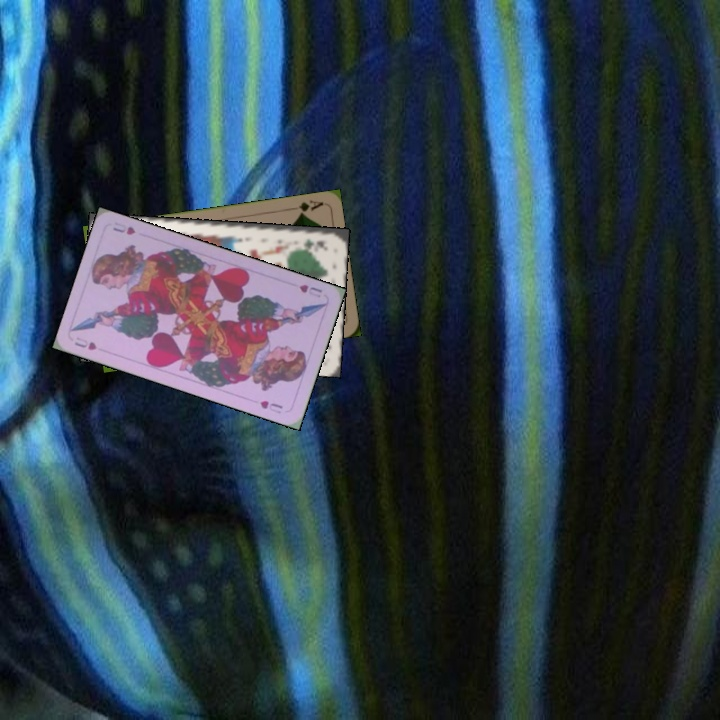GA: (285, 196, 326, 218)
GK: (299, 235, 331, 251)
HU: (295, 280, 325, 300), (70, 333, 99, 353)
